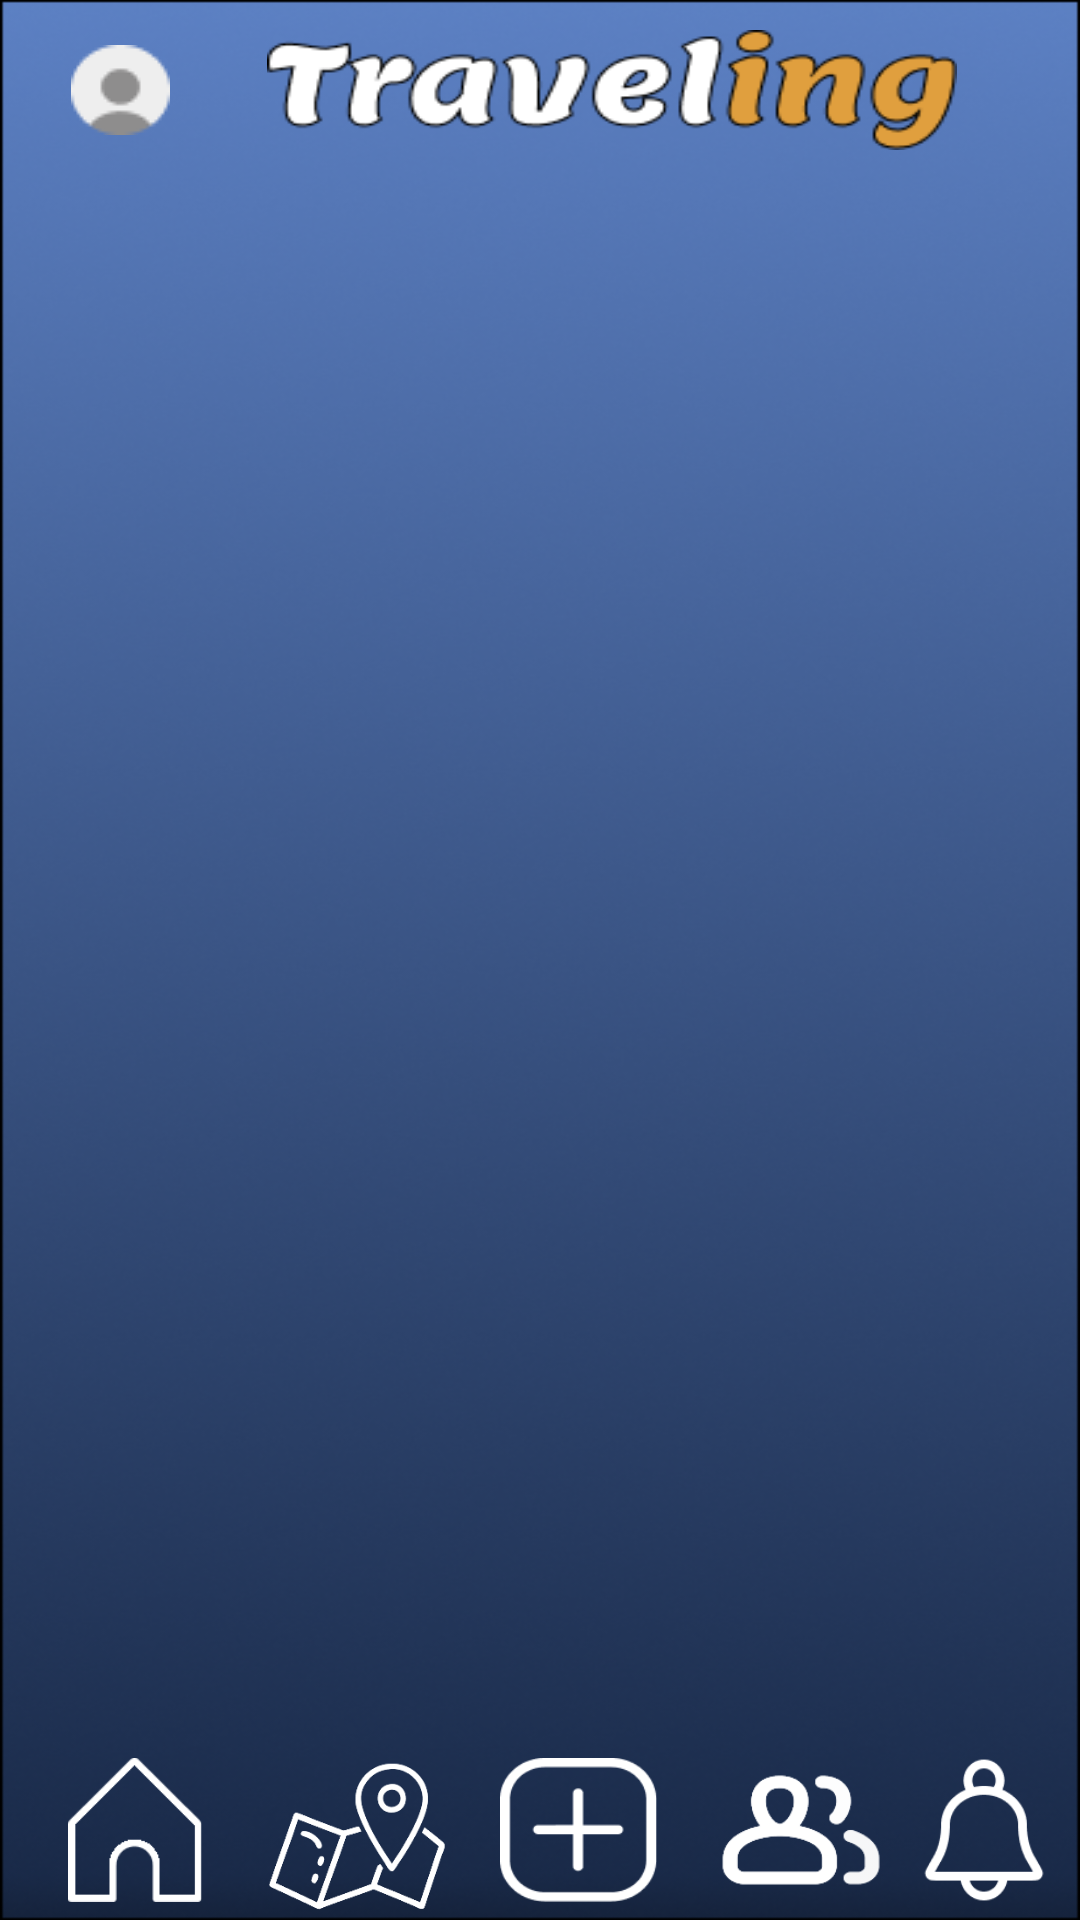

Where to tap for icons on this 1080*1920 app screen, as point (x, y):
Groups: point (801, 1830)
Home: point (135, 1830)
New Post: point (578, 1830)
